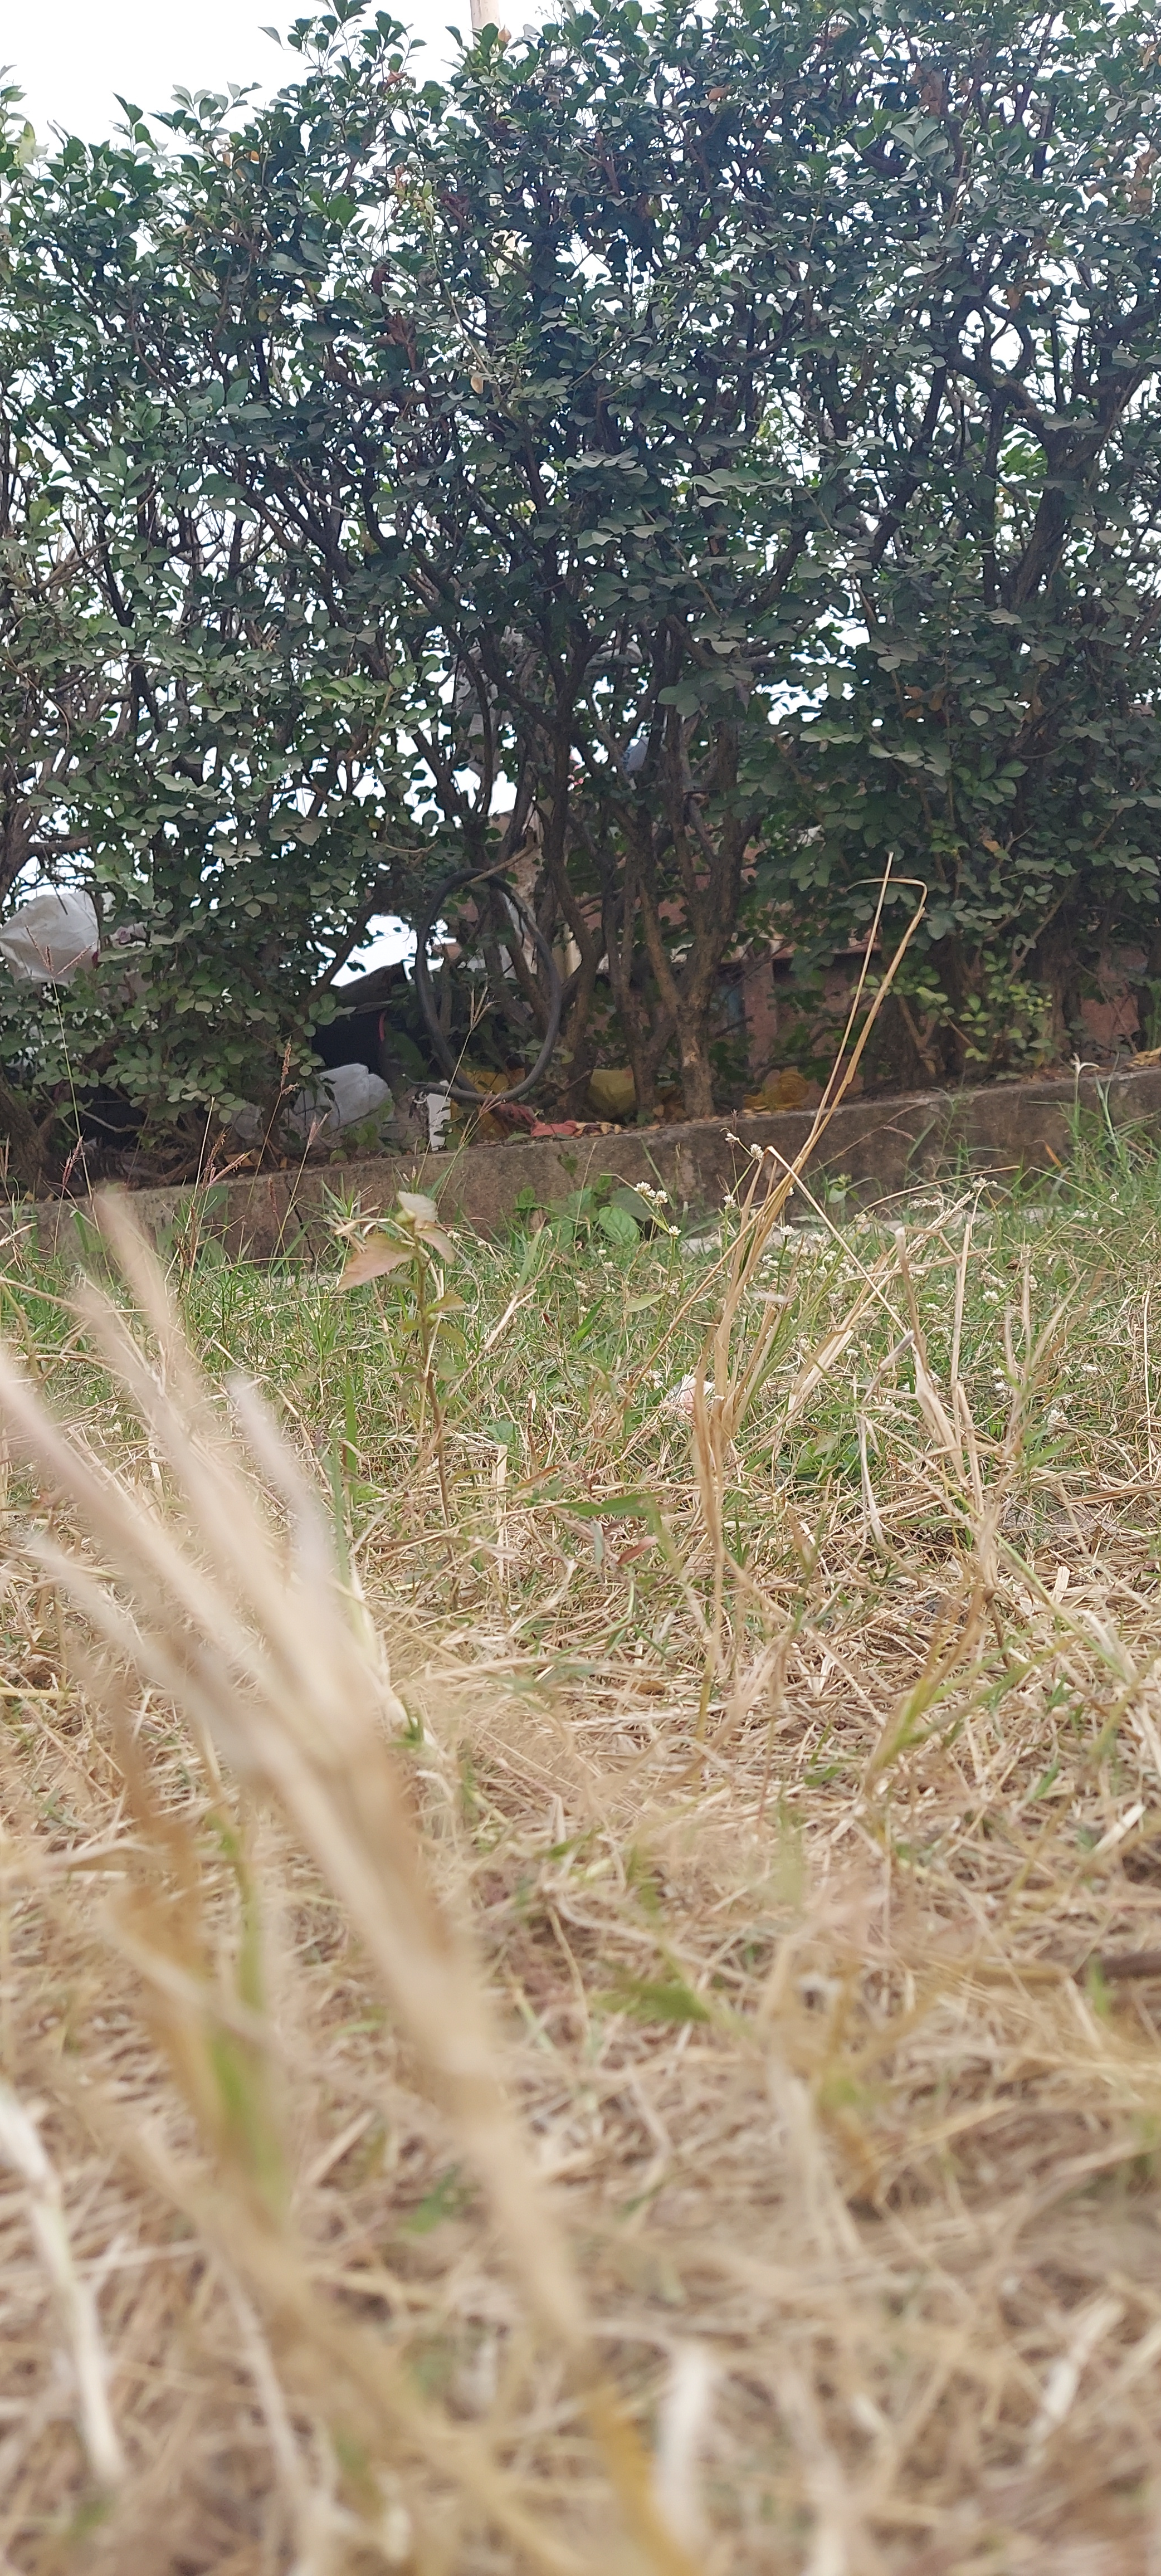Grass: (39, 1339, 1161, 2569)
Wall: (48, 1092, 1150, 1272)
